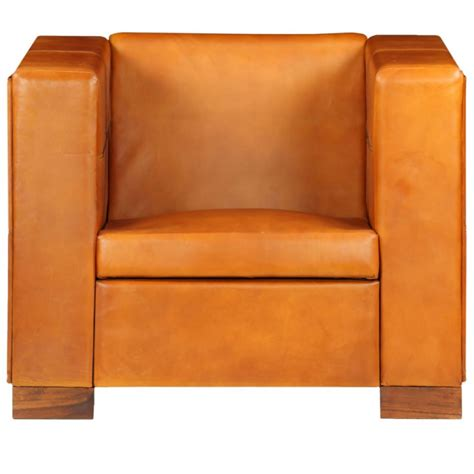cuero: (6, 31, 468, 386)
